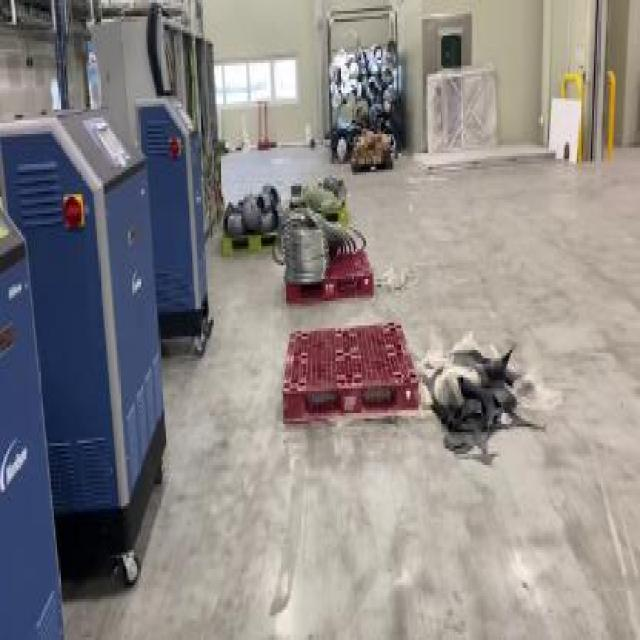box: (283, 323, 422, 418), (283, 219, 372, 298), (286, 172, 354, 244), (223, 183, 286, 260), (351, 128, 391, 172)
